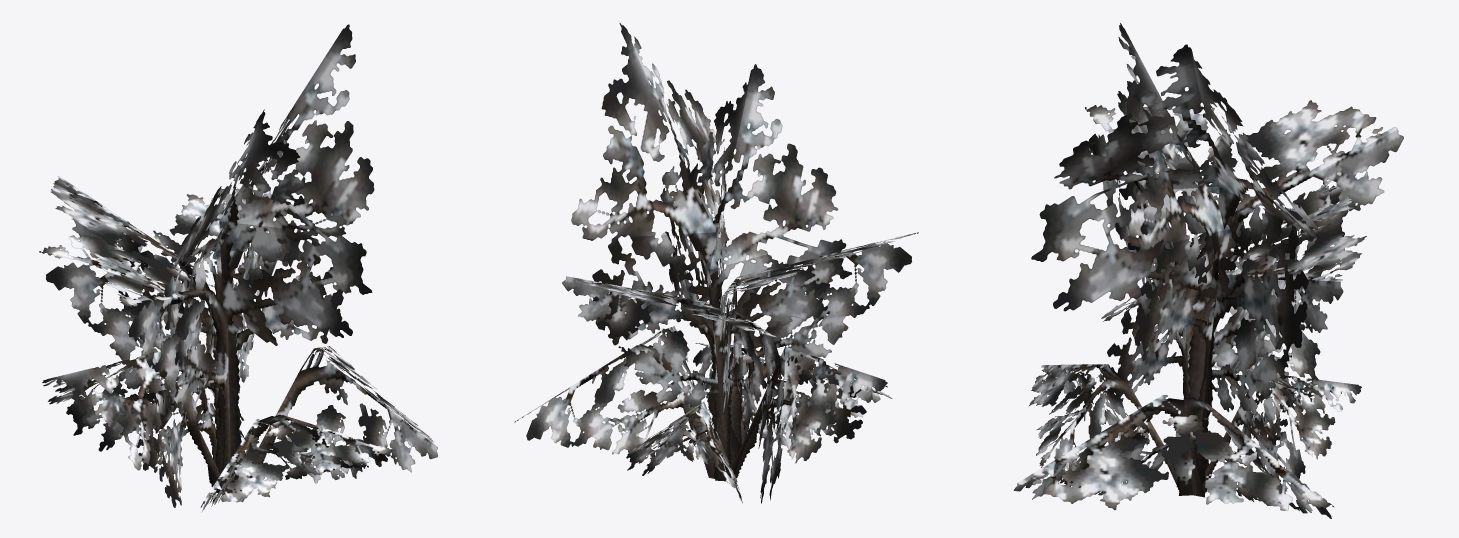
File: naflbu9.dae
3 renders of one model, left to right at view 1: azimuth 30°, elevation 25°; view 2: azimuth 150°, elevation 25°; view 3: azimuth 270°, elevation 25°, orthographic. The views are drawn at different scales.
Visible parts, largest first — view 1: trunk; view 2: trunk; view 3: trunk.
Boxes of the visible parts, x1=… form: trunk: x1=39, y1=24, x2=437, y2=512; trunk: x1=514, y1=23, x2=918, y2=503; trunk: x1=1013, y1=23, x2=1403, y2=518.
Size of the model in its own units: 0.5831 by 0.5853 by 0.7178.
1 material, 1 textured.
